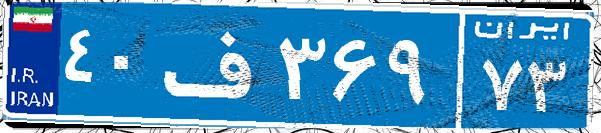0: (110, 28, 158, 105)
3: (273, 28, 330, 110), (525, 38, 570, 115)
4: (57, 26, 110, 107)
6: (330, 28, 385, 110)
7: (475, 38, 525, 113)
9: (385, 28, 445, 110)
ف: (158, 15, 273, 115)
